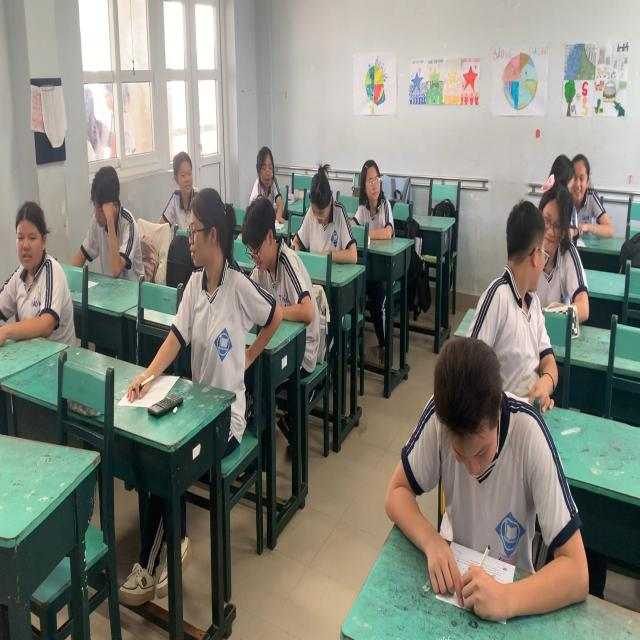cheating: (483, 200, 559, 381), (187, 182, 250, 388), (548, 144, 596, 212)
not_cheating: (405, 341, 563, 579), (7, 196, 70, 335), (78, 160, 142, 276), (240, 199, 304, 315), (294, 161, 356, 266), (352, 153, 396, 246), (248, 144, 283, 212), (160, 150, 200, 203)
